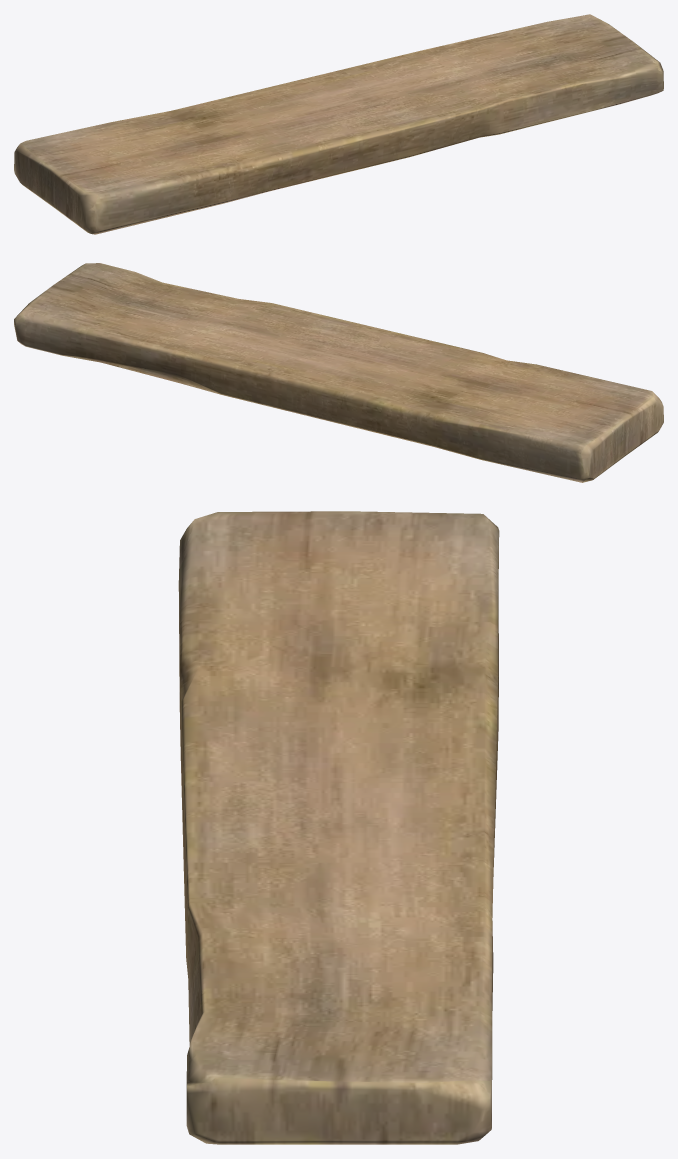
3 renders of one model, top to bottom at view 1: azimuth 30°, elevation 25°; view 2: azimuth 150°, elevation 25°; view 3: azimuth 270°, elevation 25°, orthographic. The views are drawn at different scales.
Visible parts, largest first — view 1: SM_Plank_Ash_01_LOD0; view 2: SM_Plank_Ash_01_LOD0; view 3: SM_Plank_Ash_01_LOD0.
Part boxes in pixels (x1,y1,x2,y2): SM_Plank_Ash_01_LOD0: (14, 14, 663, 234); SM_Plank_Ash_01_LOD0: (14, 263, 663, 482); SM_Plank_Ash_01_LOD0: (178, 511, 499, 1144).
Size of the model in its own units: 1.01 by 0.0642 by 0.2427.
1 material, 1 textured.
